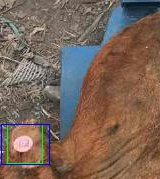text: (7, 124, 42, 163)
